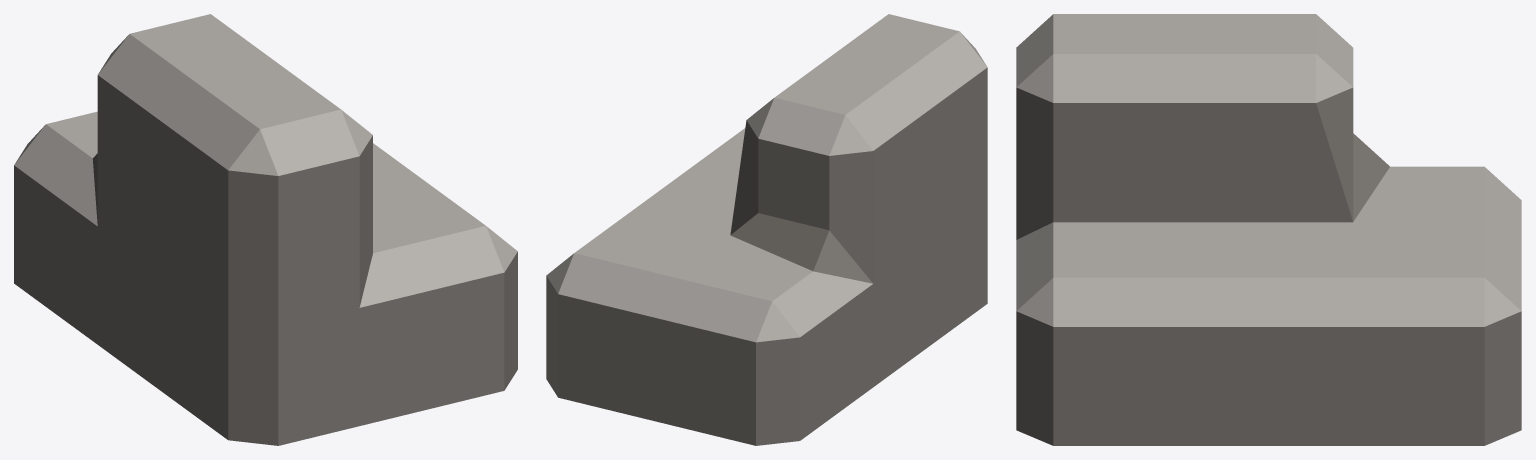
The picture shows the model from 3 angles, left to right: view 1: azimuth 30°, elevation 25°; view 2: azimuth 150°, elevation 25°; view 3: azimuth 270°, elevation 25°; orthographic projection. The views are drawn at different scales.
Parts seen in each view (by area): view 1: stone_debris_single; view 2: stone_debris_single; view 3: stone_debris_single.
Part boxes in pixels (x1,y1,x2,y2): stone_debris_single: (14,14,517,445); stone_debris_single: (546,14,987,445); stone_debris_single: (1016,14,1521,445).
Size of the model in its own units: 0.2 by 0.2 by 0.3.
Materials: 1 (1 with a texture image).
